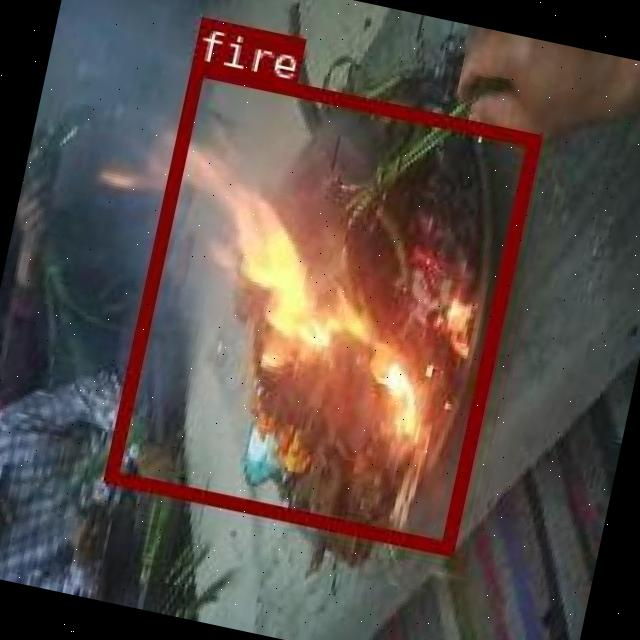fire: (102, 60, 538, 553)
